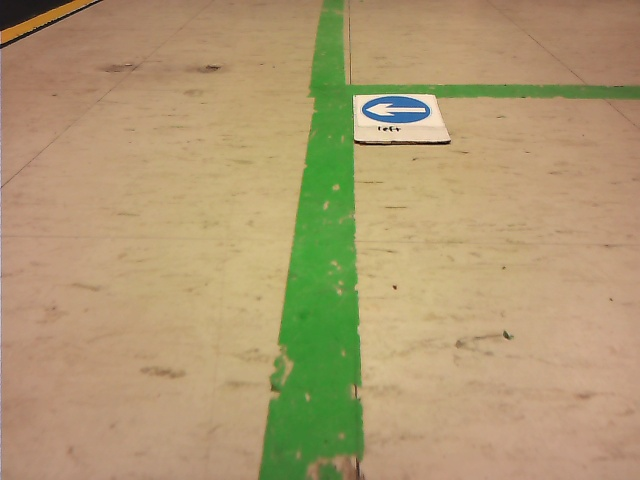TURN LEFT: (359, 97, 430, 122)
